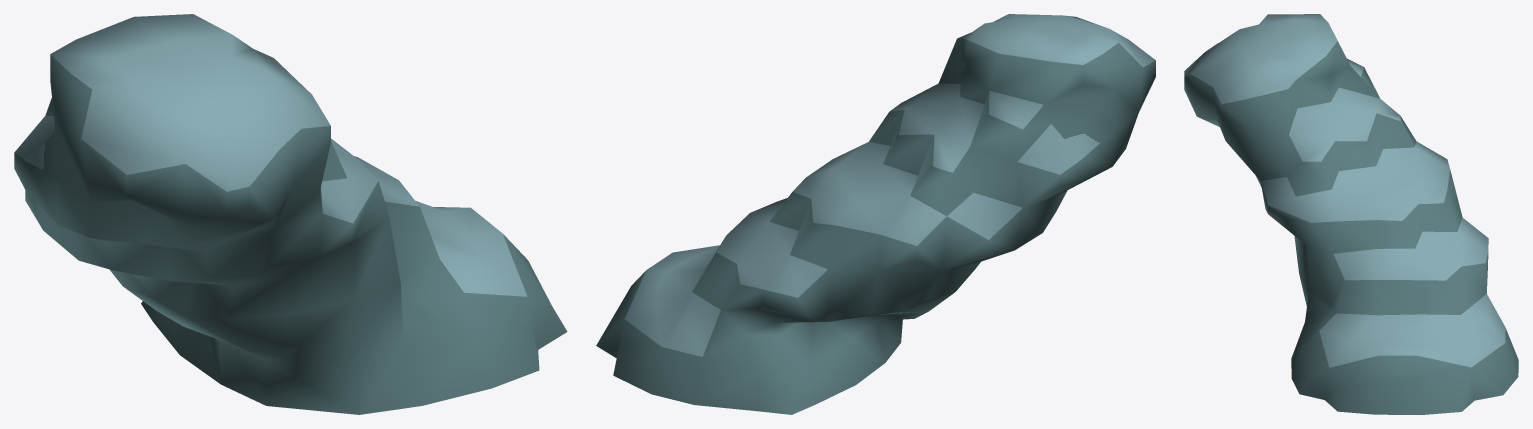
The model's file is rockstairs.fbx.
3 views of the same model, side by side, from view 1: azimuth 30°, elevation 25°; view 2: azimuth 150°, elevation 25°; view 3: azimuth 270°, elevation 25° (orthographic). The views are drawn at different scales.
Visible parts, largest first — view 1: rockstairs; view 2: rockstairs; view 3: rockstairs.
Part boxes in pixels (x1,y1,x2,y2): rockstairs: (14, 14, 567, 414); rockstairs: (596, 14, 1155, 414); rockstairs: (1184, 14, 1518, 414).
Size of the model in its own units: 5.69 by 4.94 by 4.06.
